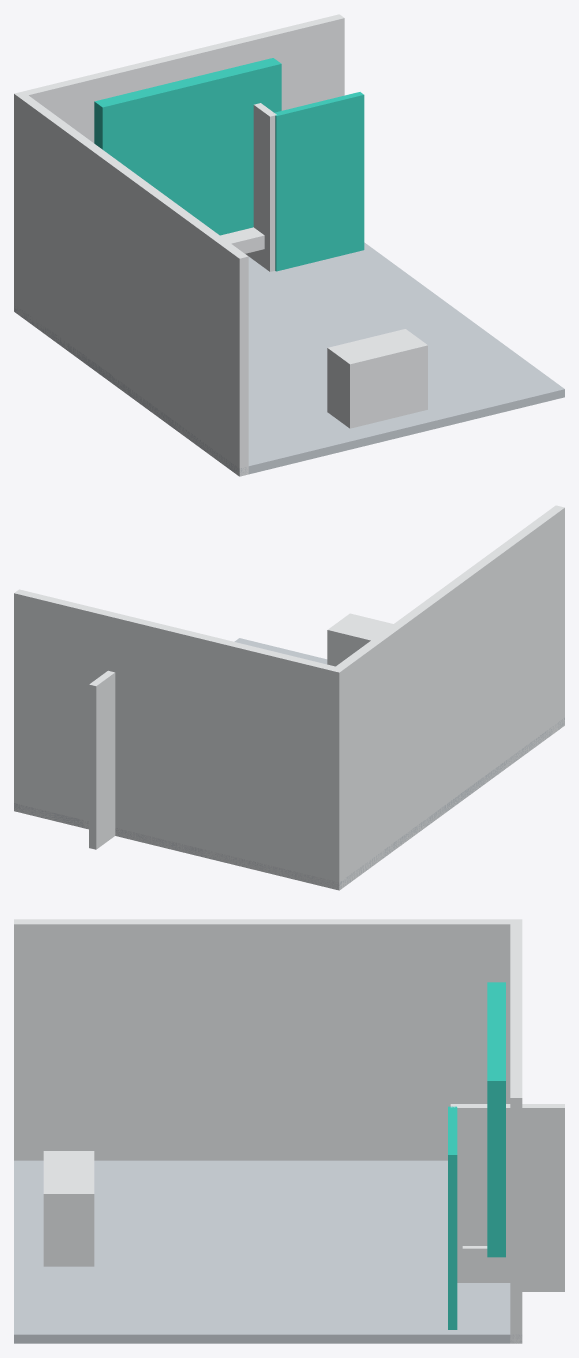
3 views of the same model, one above another, from view 1: azimuth 30°, elevation 25°; view 2: azimuth 150°, elevation 25°; view 3: azimuth 270°, elevation 25° (orthographic). The views are drawn at different scales.
Parts seen in each view (by area): view 1: Exhibition Booth Concept; view 2: Exhibition Booth Concept; view 3: Exhibition Booth Concept.
Part boxes in pixels (x1=…): Exhibition Booth Concept: x1=14, y1=14, x2=564, y2=476; Exhibition Booth Concept: x1=14, y1=505, x2=564, y2=890; Exhibition Booth Concept: x1=14, y1=919, x2=564, y2=1343.
Size of the model in its own units: 5 by 3.2 by 6.51.
